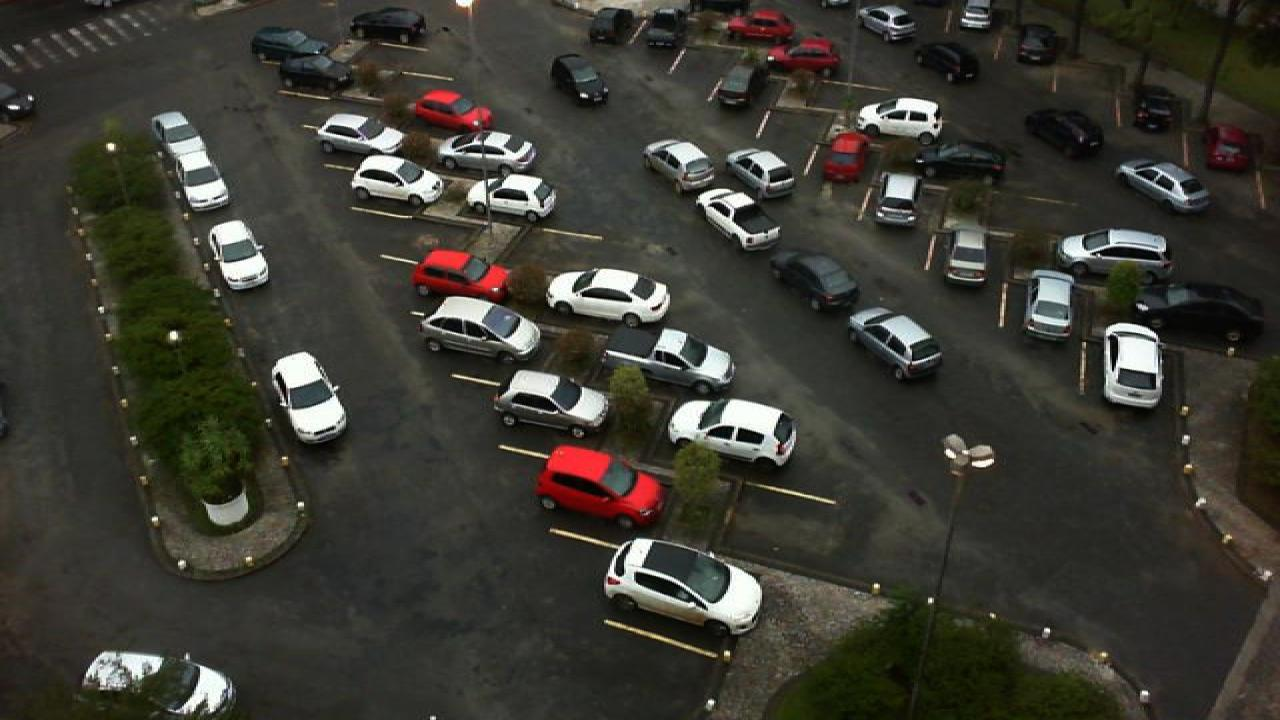Car: (600, 534, 768, 638), (534, 443, 668, 531), (666, 395, 800, 475), (600, 325, 740, 398), (1138, 280, 1272, 346), (490, 368, 612, 440), (418, 294, 540, 366), (544, 264, 672, 330), (1056, 225, 1174, 286), (408, 245, 514, 307), (1114, 158, 1216, 217), (1100, 322, 1166, 410), (348, 153, 448, 206), (436, 128, 538, 179), (466, 172, 558, 226), (206, 219, 272, 292), (850, 96, 946, 145), (1022, 107, 1108, 161), (1018, 269, 1078, 343), (640, 137, 716, 195), (168, 146, 232, 214), (312, 110, 406, 156), (910, 138, 1008, 182), (724, 145, 796, 201), (408, 86, 494, 132), (940, 226, 996, 292), (248, 23, 330, 68), (276, 50, 356, 96), (148, 110, 208, 171), (910, 40, 984, 88), (762, 38, 844, 78), (348, 6, 430, 45), (716, 61, 772, 114), (1200, 122, 1258, 173), (870, 171, 922, 227), (1130, 82, 1184, 133), (820, 130, 868, 185), (856, 2, 918, 43), (726, 8, 798, 43), (640, 6, 688, 52), (1014, 21, 1062, 66), (584, 6, 636, 46), (956, 0, 996, 32)
